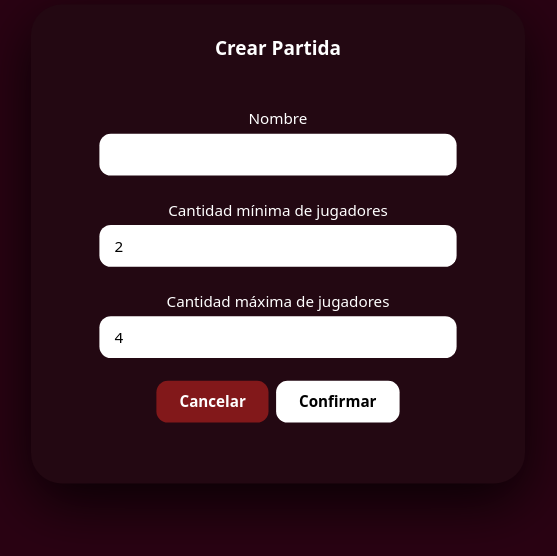
Test: CreateGameDialog › caso nombre vacío
Click the button "Confirmar": [338, 402] box [276,381,399,423]
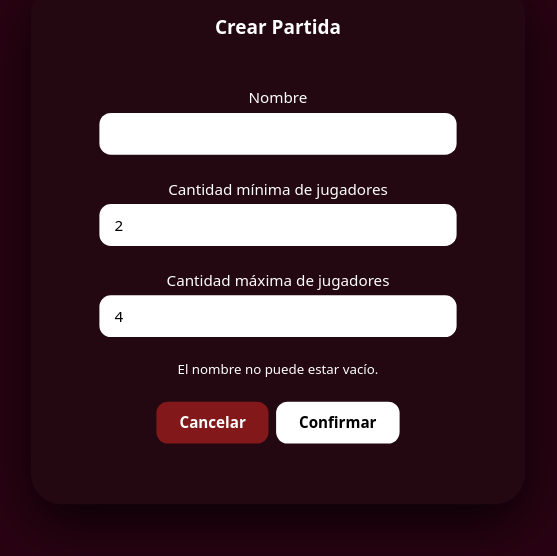
Check: the text "El nombre no puede estar vacío." is shown, box [178,360,378,378]
